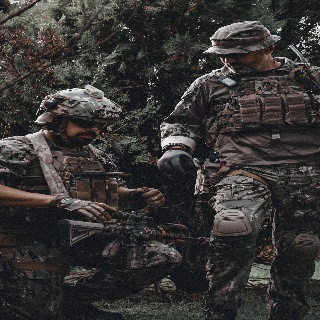rifle: (59, 209, 215, 269)
